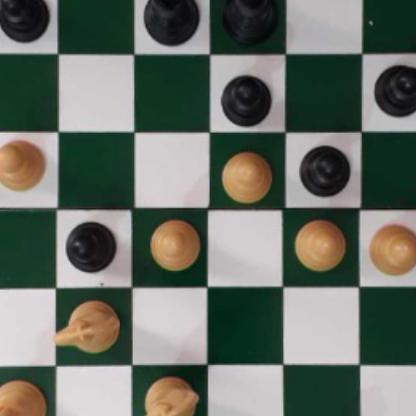black-bishop: (141, 0, 200, 45), (221, 0, 280, 43)
black-pawn: (218, 72, 272, 126), (299, 141, 351, 197), (65, 221, 117, 272), (373, 61, 416, 118), (0, 0, 51, 43)
white-bishop: (0, 378, 48, 416)
white-knight: (54, 298, 120, 354), (134, 378, 202, 416)
white-pawn: (216, 147, 274, 200), (147, 218, 202, 272), (293, 216, 346, 270), (367, 219, 416, 277), (0, 137, 46, 192)
